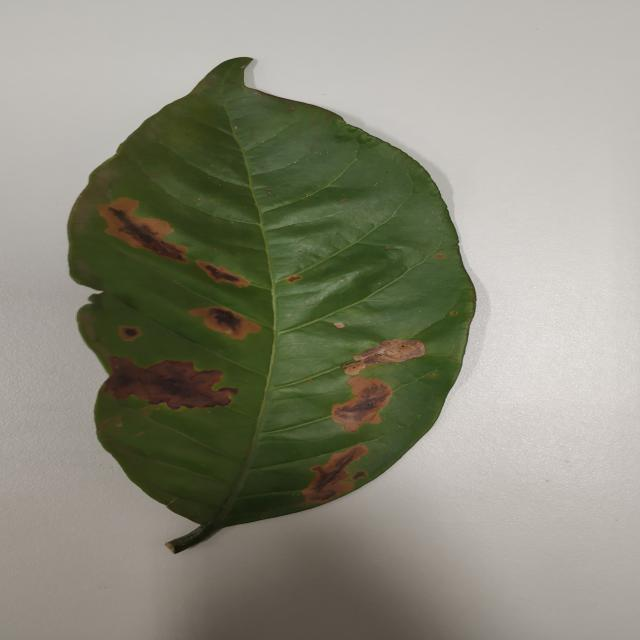Plaga-Minador: (65, 57, 478, 556)
